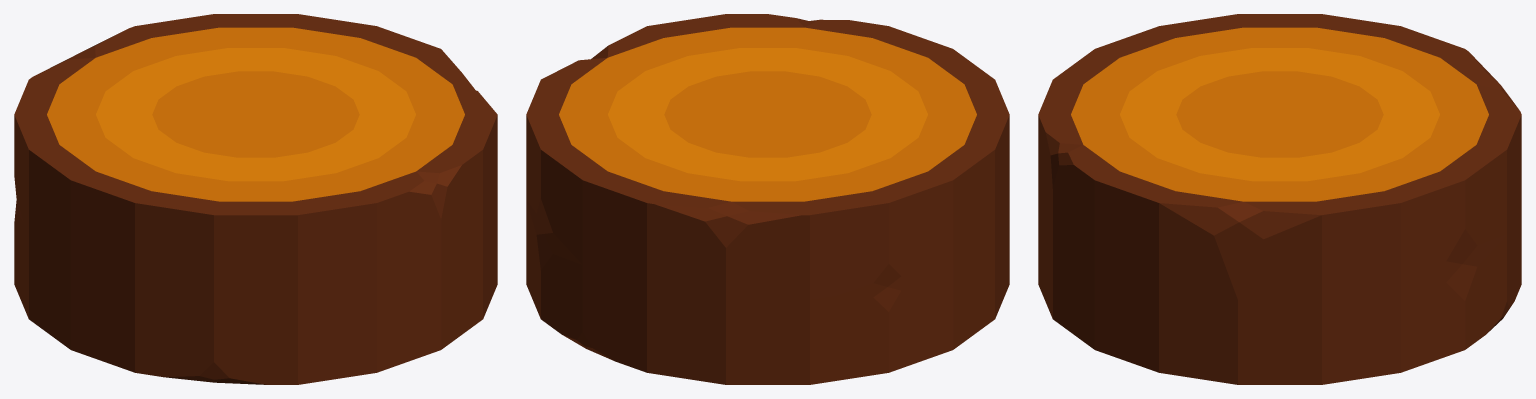
The model's file is Tree log_32.fbx.
3 views of the same model, side by side, from view 1: azimuth 30°, elevation 25°; view 2: azimuth 150°, elevation 25°; view 3: azimuth 270°, elevation 25° (orthographic).
Parts seen in each view (by area): view 1: Circle.396; view 2: Circle.396; view 3: Circle.396.
Boxes of the visible parts, x1=… form: Circle.396: x1=14, y1=14, x2=497, y2=384; Circle.396: x1=526, y1=14, x2=1009, y2=384; Circle.396: x1=1038, y1=14, x2=1521, y2=384.
Bounding box in the file's own units: 23.2 × 9.13 × 23.56.
